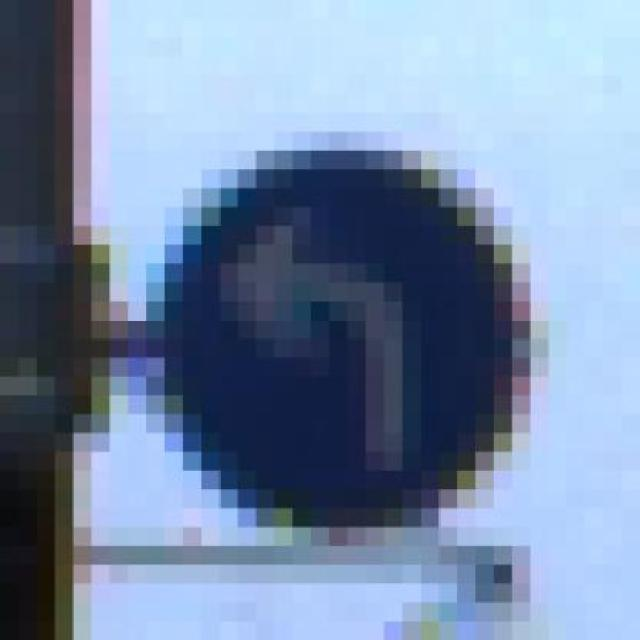Turn left ahead: (146, 94, 549, 546)
